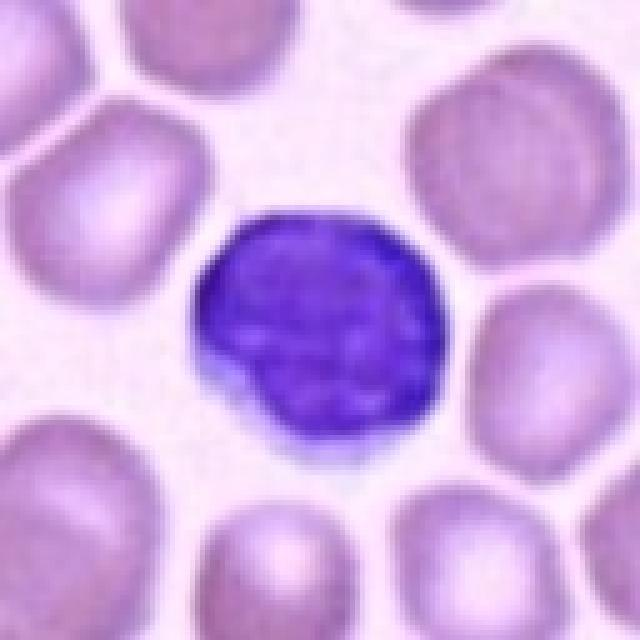lympho: (178, 203, 456, 475)
